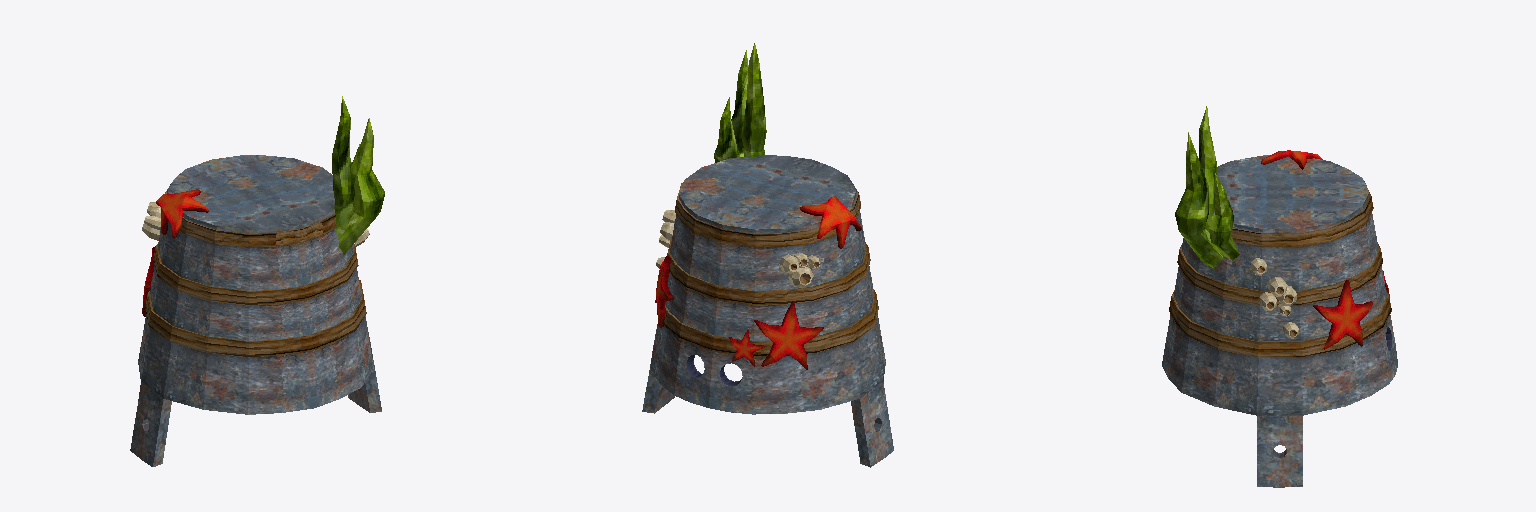
3 views of the same model, side by side, from view 1: azimuth 30°, elevation 25°; view 2: azimuth 150°, elevation 25°; view 3: azimuth 270°, elevation 25° (orthographic).
Visible parts, largest first — view 1: Handle1.009; view 2: Handle1.009; view 3: Handle1.009.
Boxes of the visible parts, x1,y1,x2,y2 form: Handle1.009: [130, 96, 384, 466]; Handle1.009: [642, 43, 893, 467]; Handle1.009: [1162, 106, 1397, 487].
Size of the model in its own units: 1.84 by 2.69 by 1.64.
Materials: 1 (1 with a texture image).